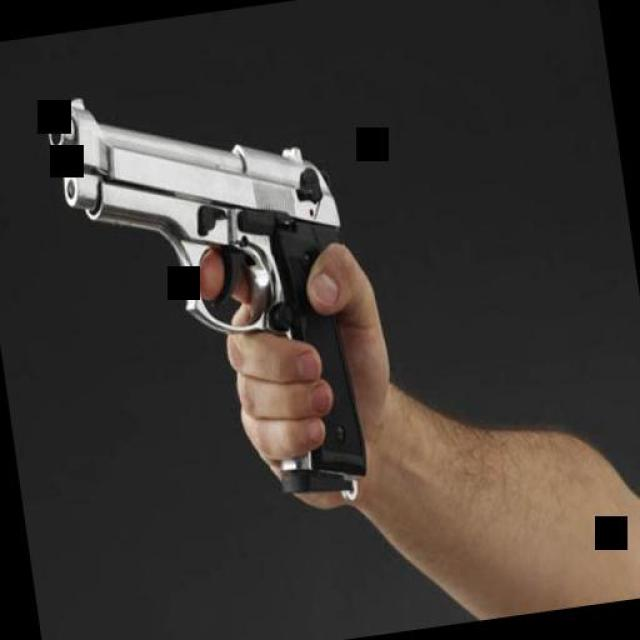gun: (32, 52, 368, 528)
